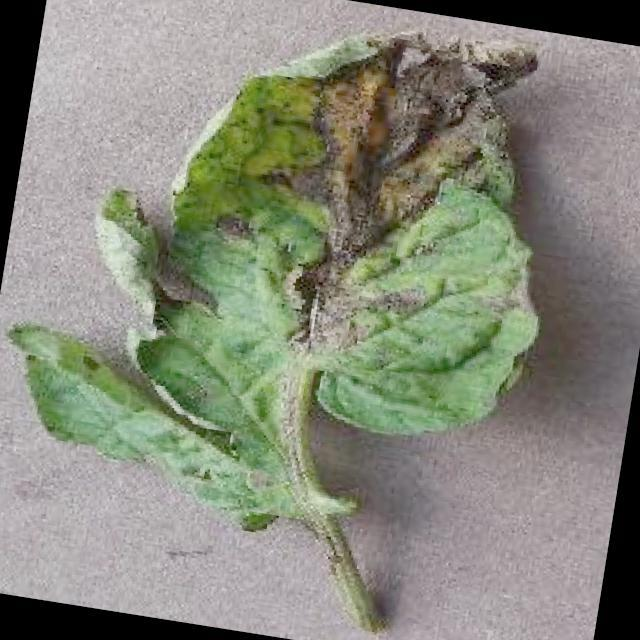Tomato Early blight leaf: (0, 0, 582, 568)
